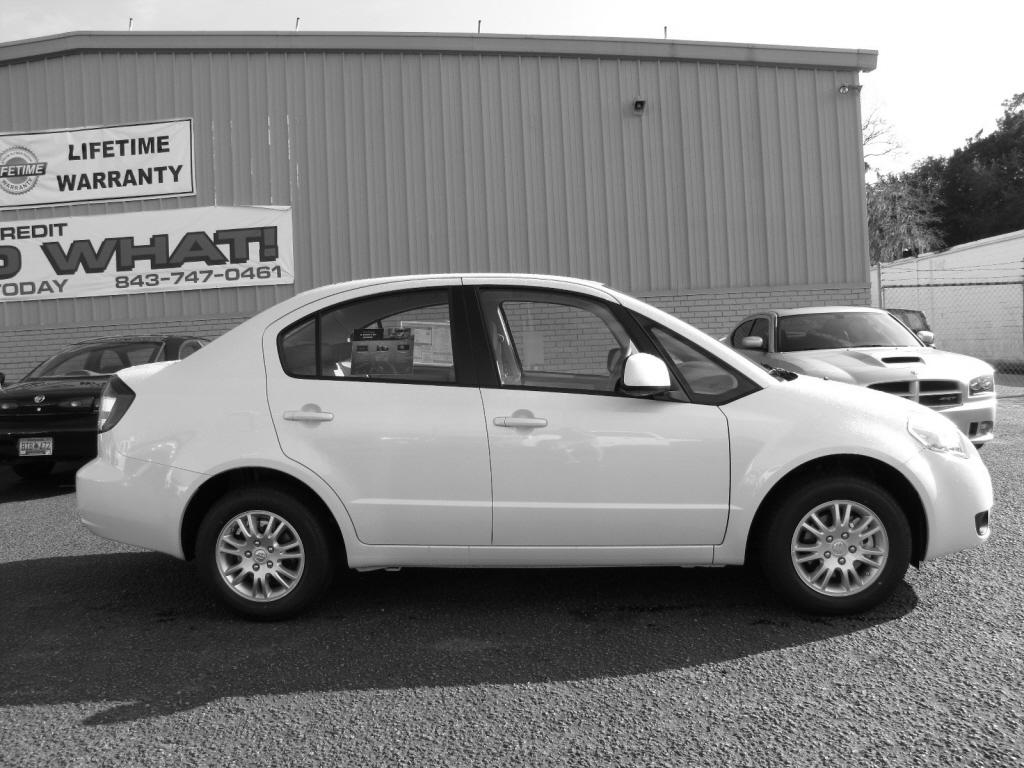car: (70, 260, 1003, 627)
